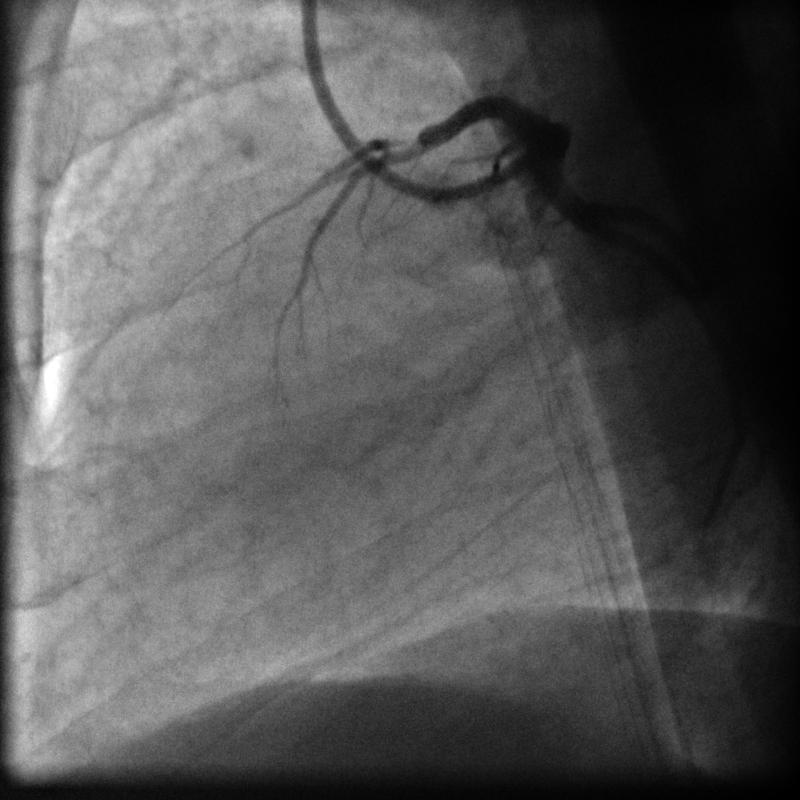Stenosis: (361, 133, 429, 170)
